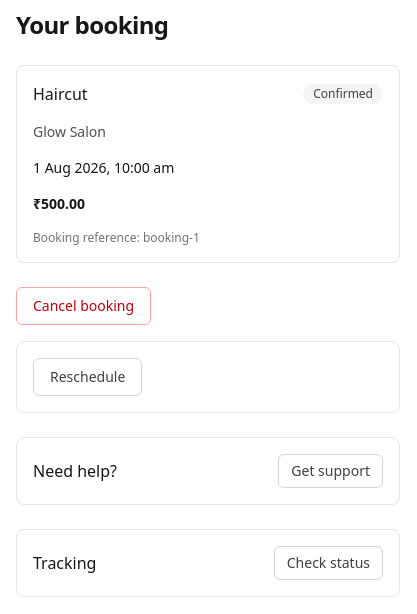
Scenario: BookingStatusPage › cancels the booking and shows the cancelled state
This screenshot has width=417, height=614.
Click the button "Cancel booking". click: click(84, 306)
box: [16,287,151,325]
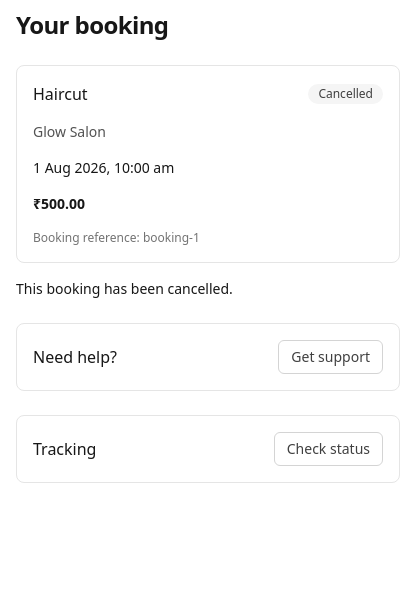
Check: the text "This booking has been cancelled." is shown, box [16,279,233,298]
